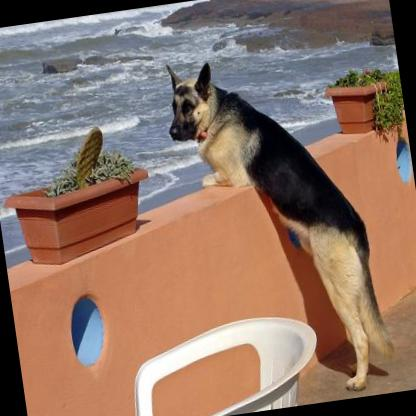German_shepherd: (155, 33, 400, 413)
